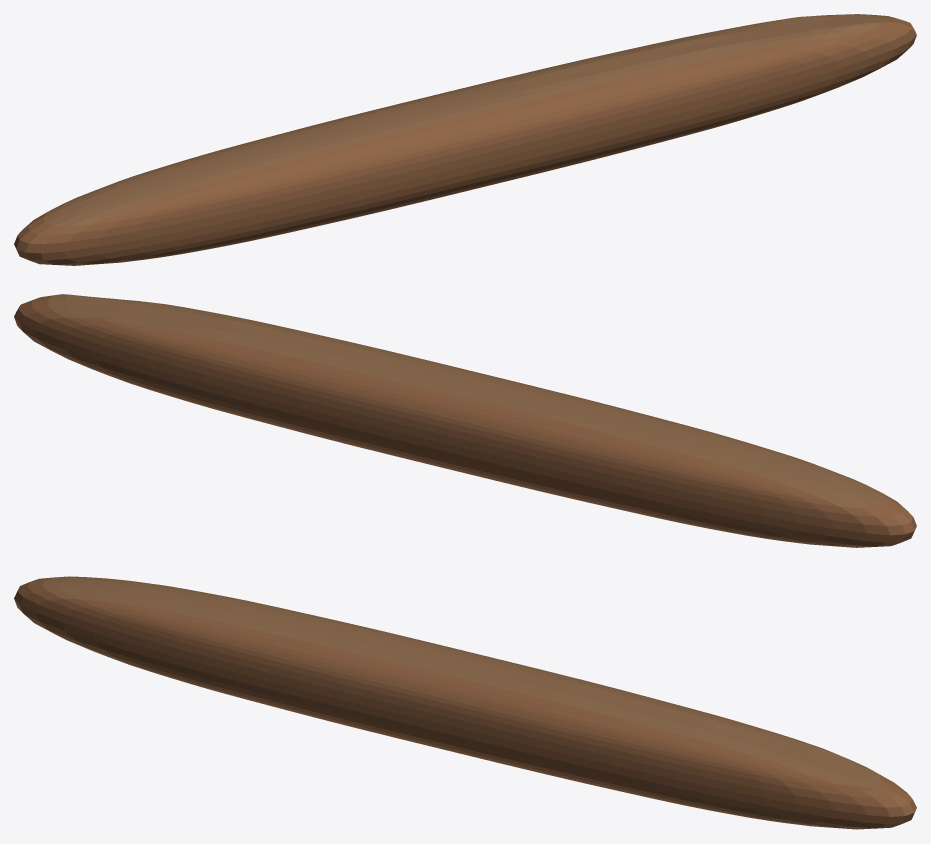
The model's file is Baguette.fbx.
3 views of the same model, one above another, from view 1: azimuth 30°, elevation 25°; view 2: azimuth 150°, elevation 25°; view 3: azimuth 330°, elevation 25° (orthographic).
Visible parts, largest first — view 1: Cube; view 2: Cube; view 3: Cube.
Boxes of the visible parts, x1,y1,x2,y2 form: Cube: (14,14,916,265); Cube: (14,294,916,547); Cube: (14,576,916,829).
Bounding box in the file's own units: 468 × 39.95 × 49.88.
